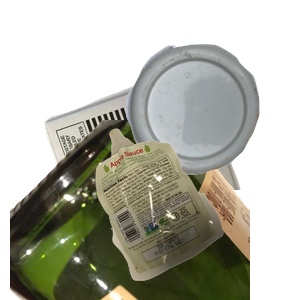glass: (10, 120, 250, 300)
paper: (42, 68, 275, 248)
plastic: (124, 42, 300, 210)
trash: (93, 126, 300, 300)
